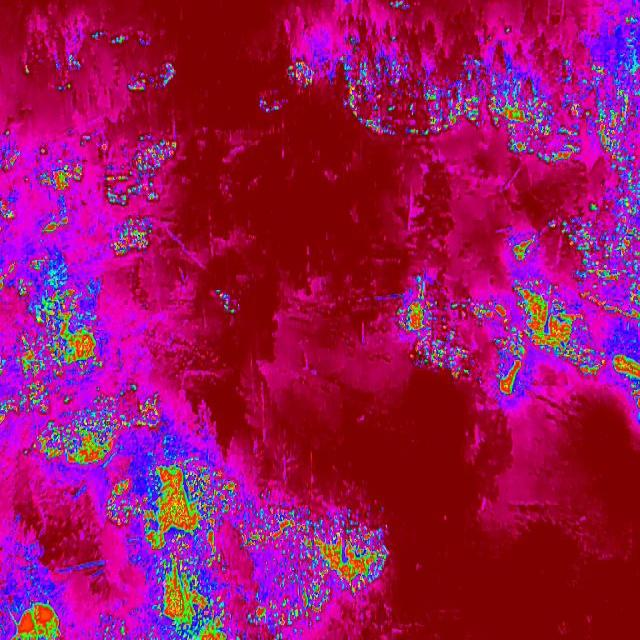fire: (2, 128, 180, 258), (332, 33, 488, 144), (232, 494, 388, 596), (24, 384, 162, 474), (0, 265, 106, 380), (17, 20, 182, 91), (560, 182, 640, 324), (516, 276, 614, 386), (485, 65, 588, 166), (140, 458, 234, 550), (593, 57, 640, 186), (150, 568, 230, 637), (244, 582, 338, 637), (408, 333, 473, 385), (611, 348, 640, 440), (492, 331, 529, 397), (444, 294, 514, 328), (104, 476, 146, 530), (11, 601, 68, 640), (400, 292, 430, 338), (509, 225, 539, 269), (0, 392, 33, 428), (285, 58, 316, 91), (210, 287, 238, 309), (260, 93, 286, 116), (104, 622, 130, 640)
